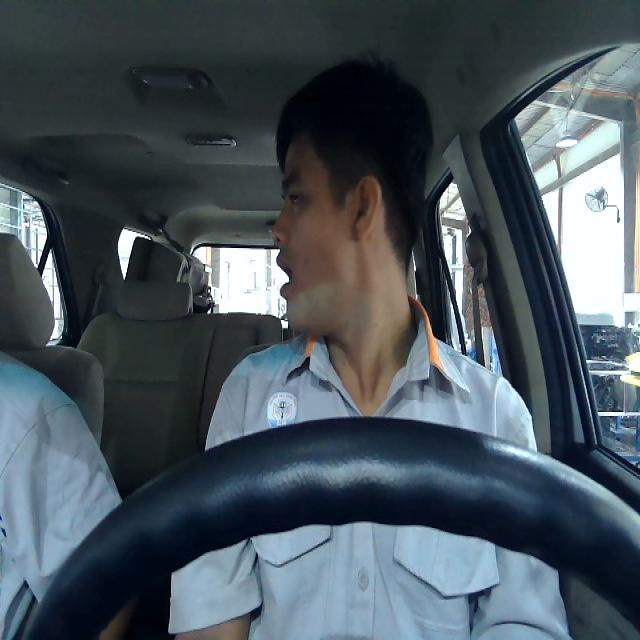yarning: (269, 131, 391, 337)
